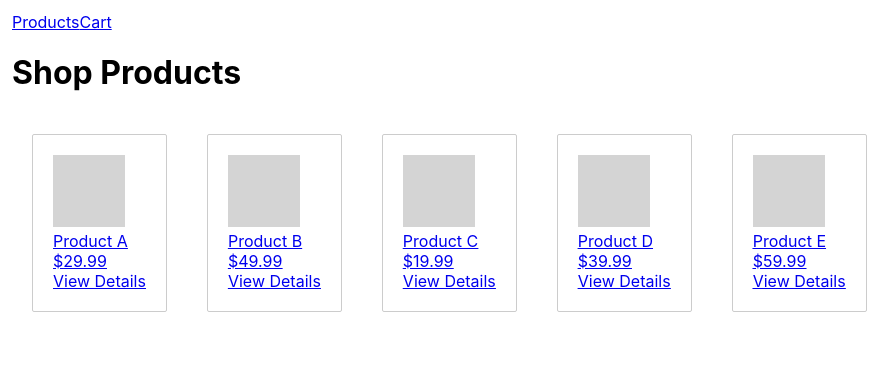
Scenario: Verify that clicking on the 'Back to Products' link takes you back to the product list
Expected: the element with test id "product-1" is shown, [32,134,167,312]
Note: Check that view details link to product a is present
Click the text "View Details" below "29.99".
click(99, 281)  # box [53,271,146,291]
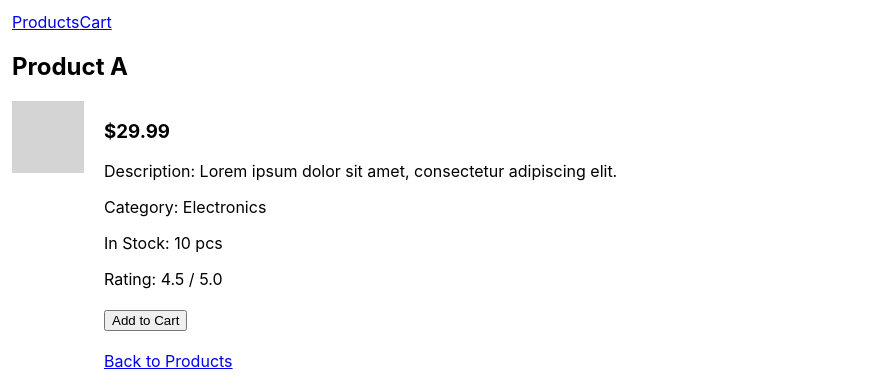
Now the link "Back to Products" is shown
Click the link "Back to Products".
click(168, 361)  # box [104,351,232,371]
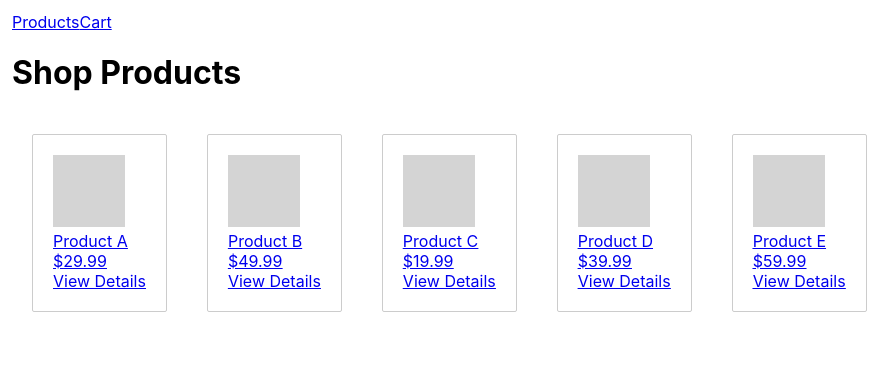
Now the heading "Shop Products" is shown, box [12,53,241,92]
